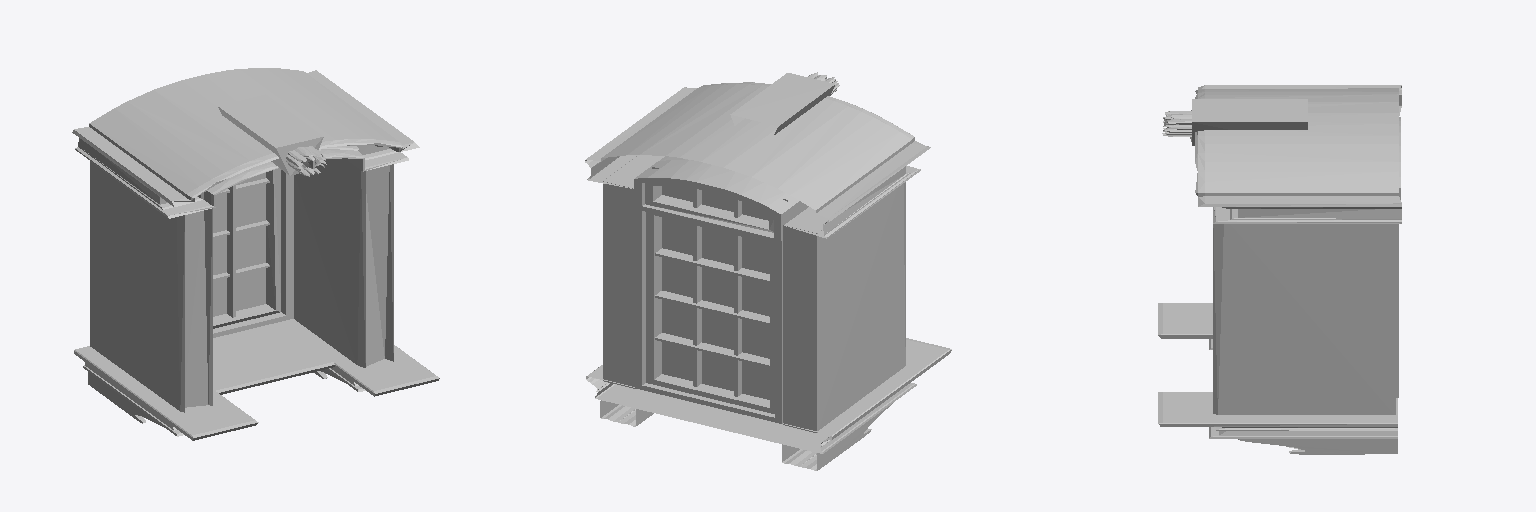
The model's file is window.obj.
3 renders of one model, left to right at view 1: azimuth 30°, elevation 25°; view 2: azimuth 150°, elevation 25°; view 3: azimuth 270°, elevation 25°, orthographic.
Visible parts, largest first — view 1: _Window_low_poly:window; view 2: _Window_low_poly:window; view 3: _Window_low_poly:window.
Boxes of the visible parts, <box> form: _Window_low_poly:window: <box>72,68,439,440</box>; _Window_low_poly:window: <box>585,72,951,470</box>; _Window_low_poly:window: <box>1158,85,1401,454</box>.
Size of the model in its own units: 1.38 by 1.56 by 1.19.